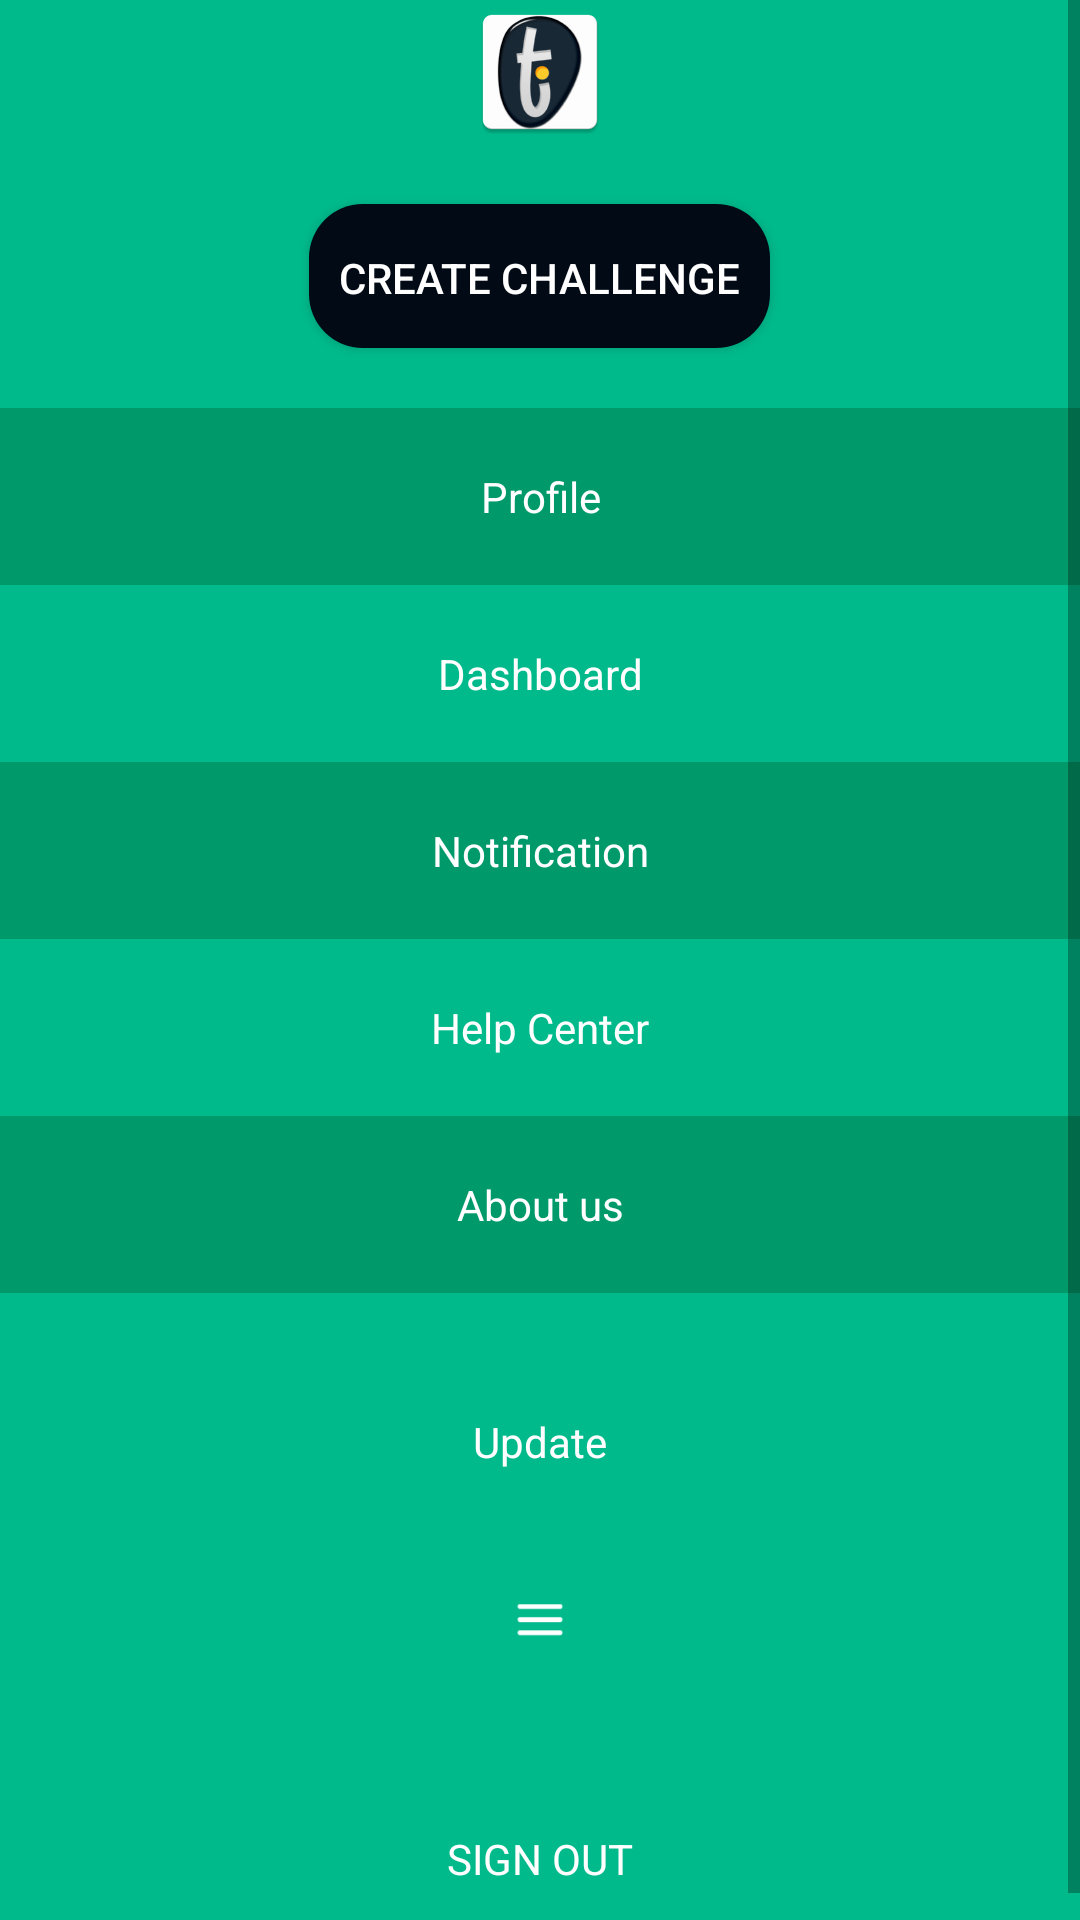

Named icons in this screenshot (1080px×1920px) and their bounding boxes, region(x1, y1, x2, y2):
menu: region(517, 1604, 563, 1636)
